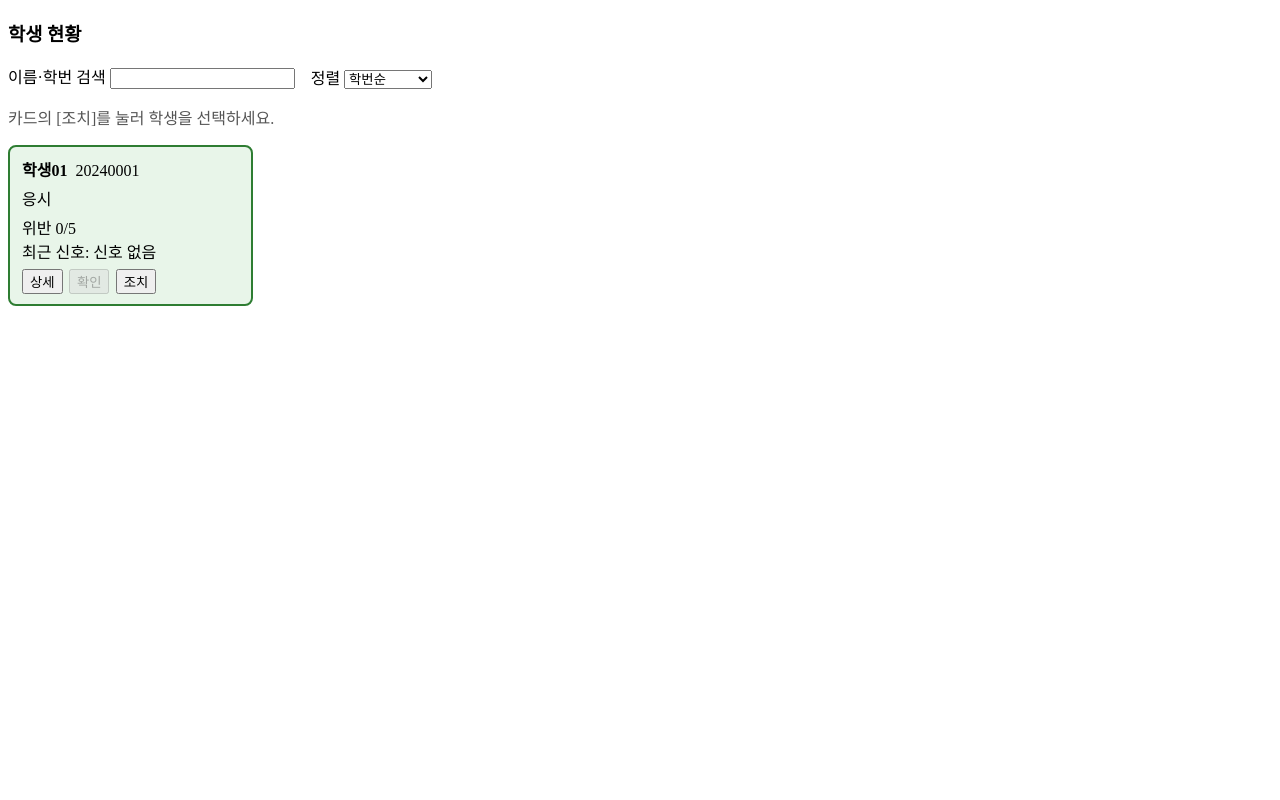
Scenario: 감독 대시보드 › (g) 응시 종료는 확인 대화상자에서 확인한 뒤에만 API를 호출한다
Click the button "조치" at (136, 282), box [116,269,156,294]
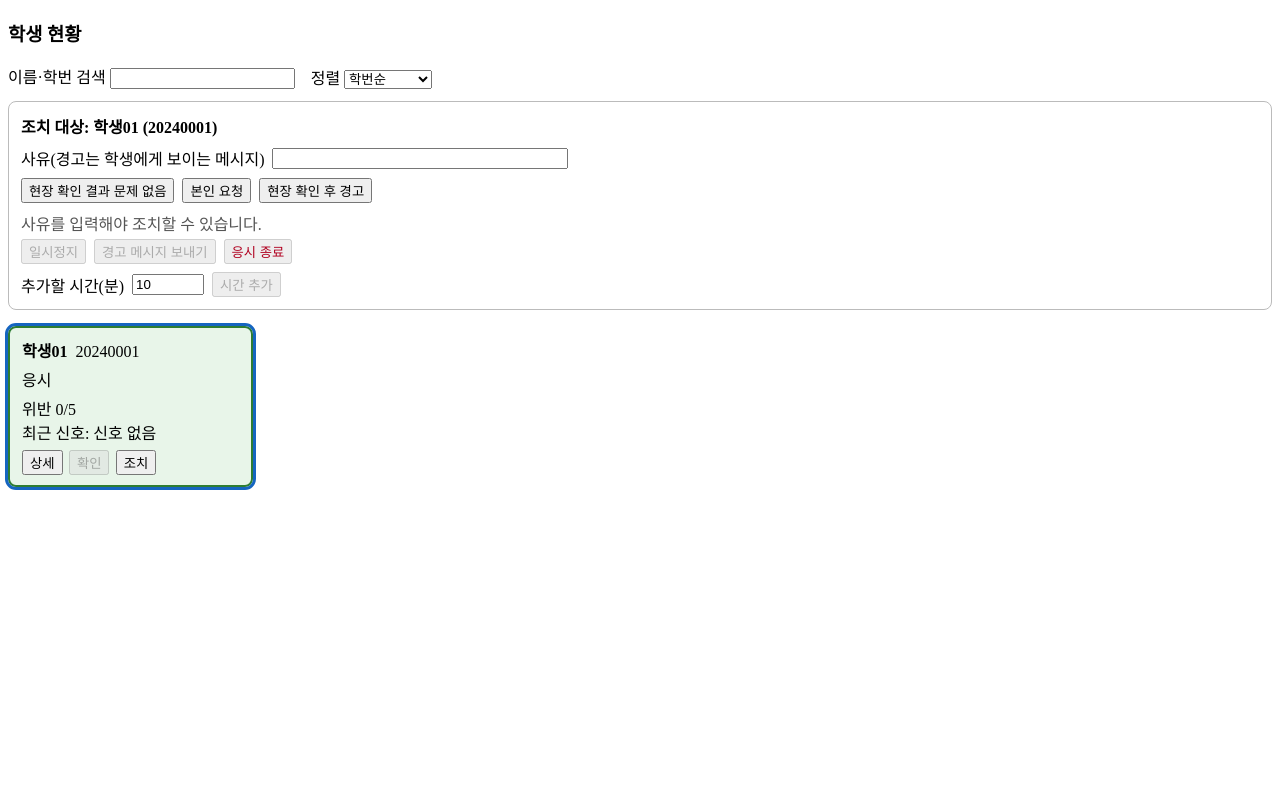
Type "본인 요청" into the field labelled "사유(경고는 학생에게 보이는 메시지)" at (420, 158), box [272,148,568,169]
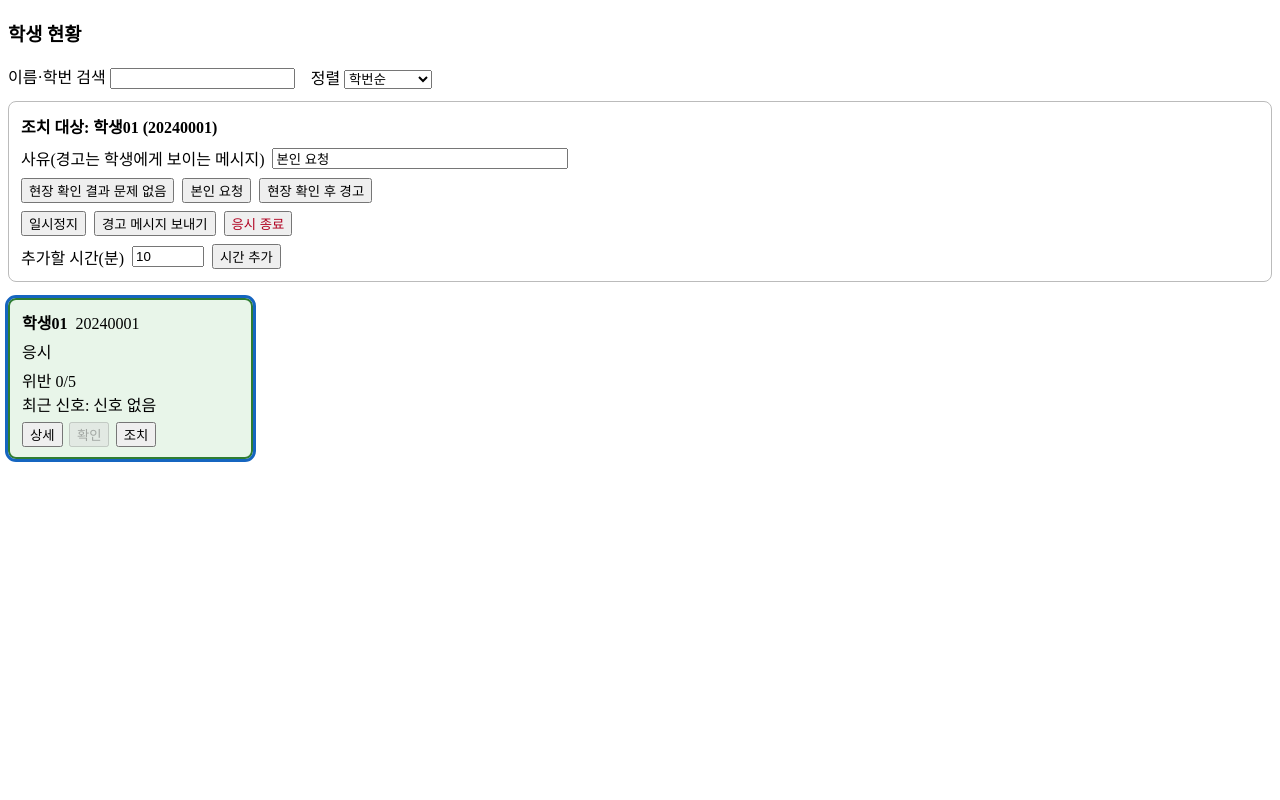
Click the button "응시 종료" at (258, 224), box [224,211,292,236]
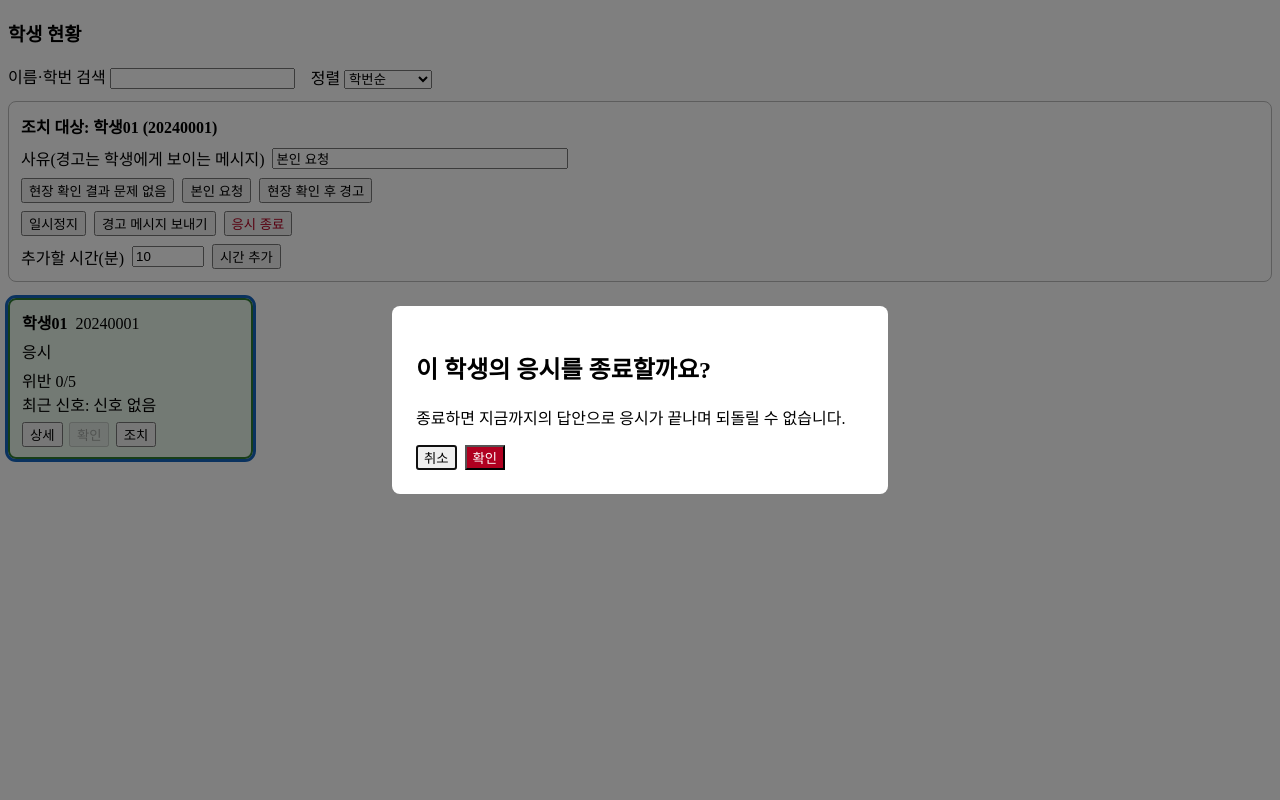
Click the button "취소" at (436, 457), box [416,445,456,470]
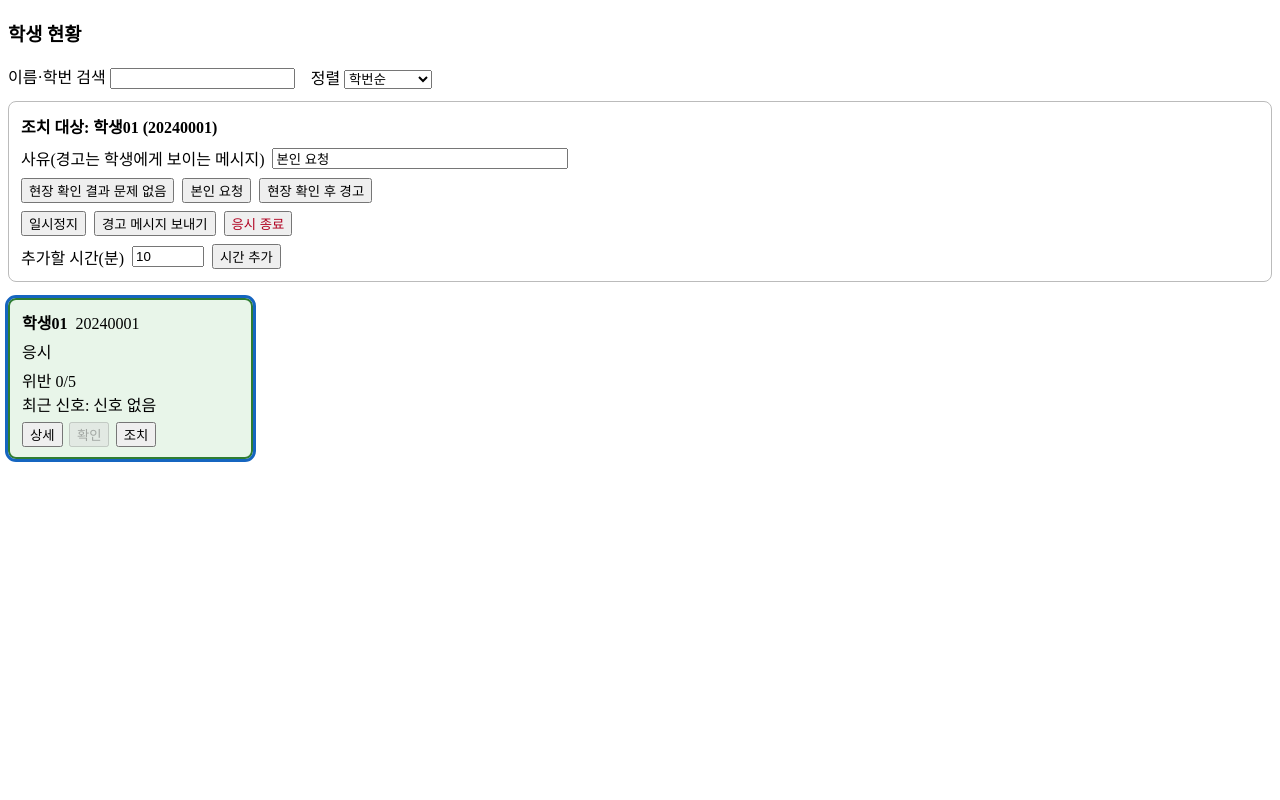
Click the button "응시 종료" at (258, 224), box [224,211,292,236]
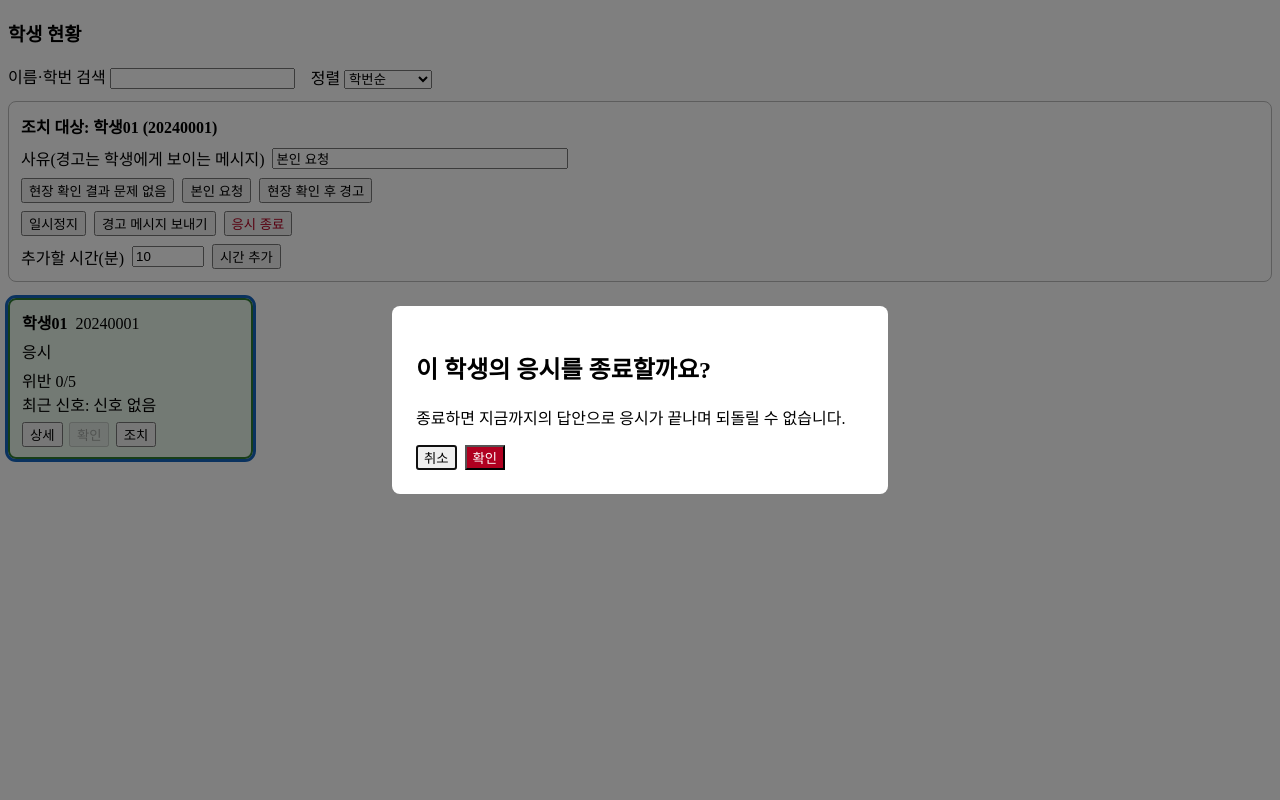
Click the button "확인" at (485, 457), box [464,445,505,470]
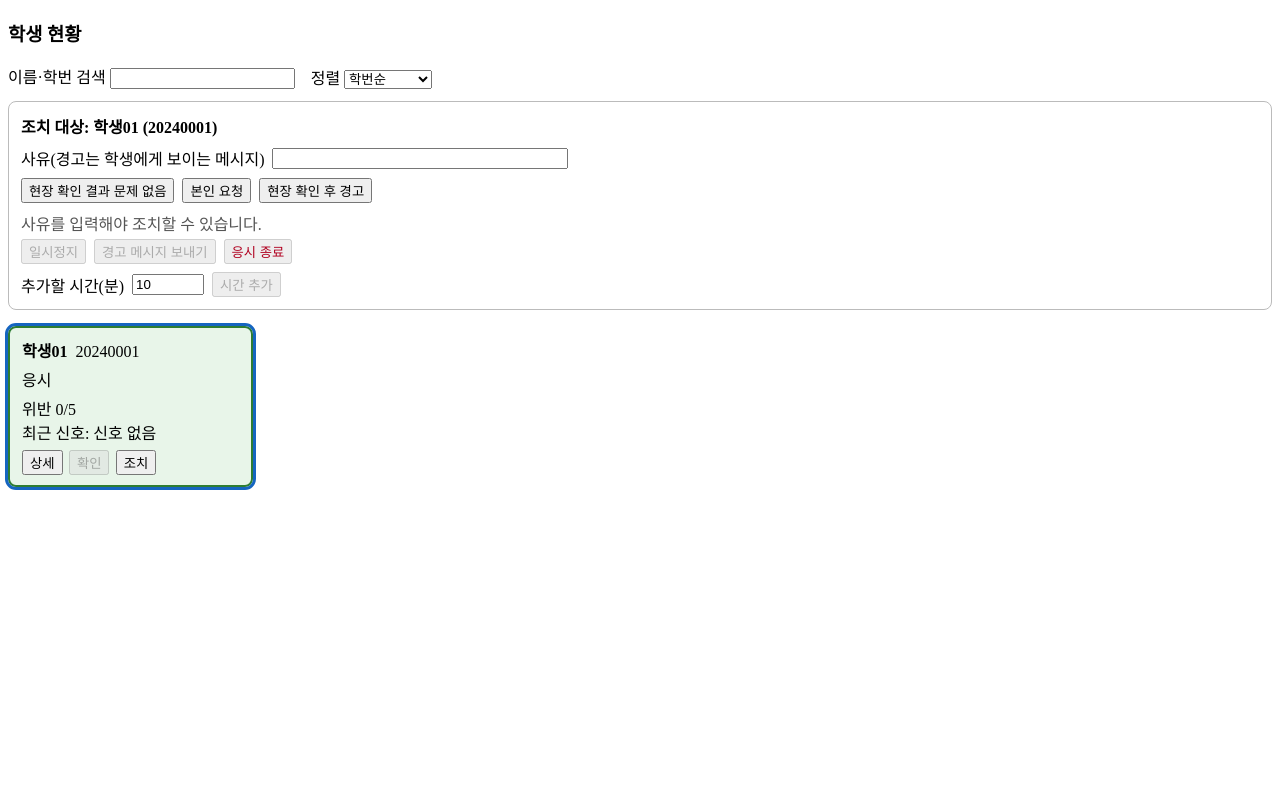
Now the dialog is gone
